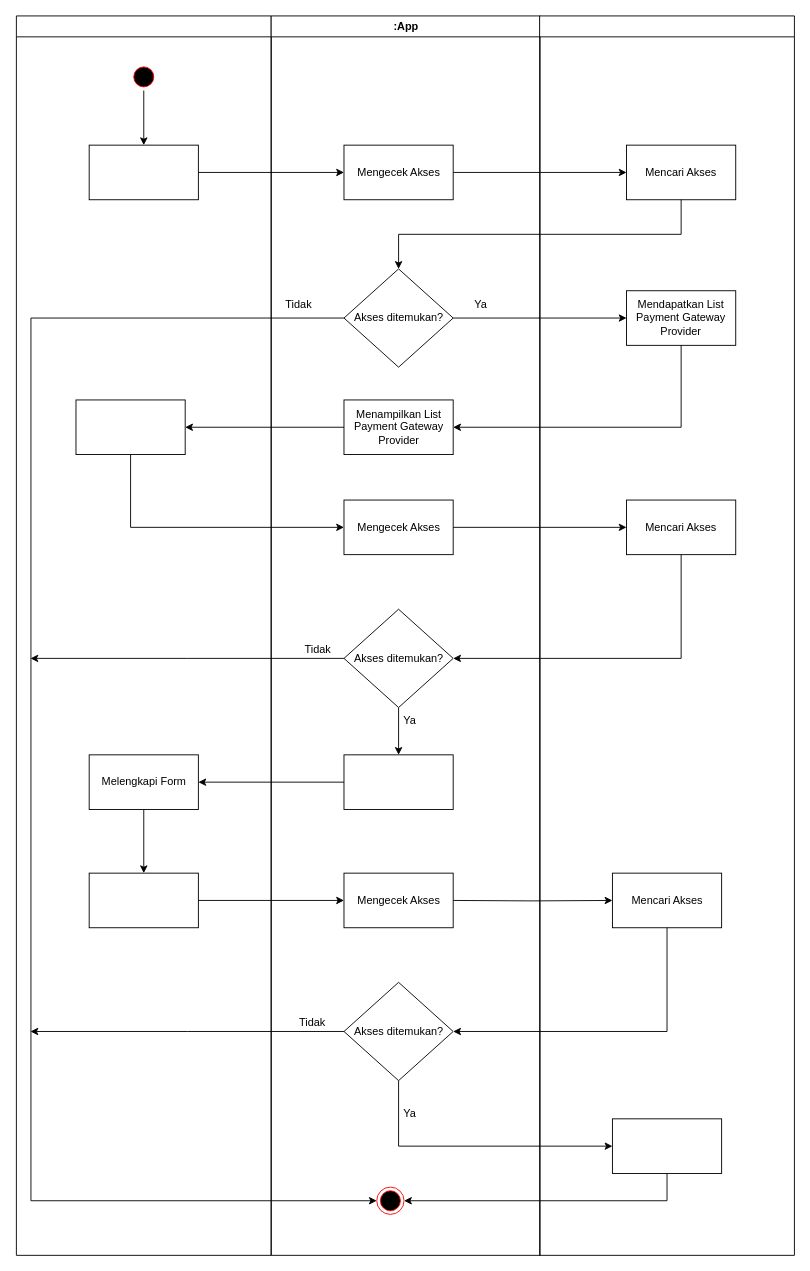
Image size: 810x1271. Some labels were removed from this diagram. Each missing label, with the box of its shape:
:Database: (539, 15, 794, 1255)
Klik Create / Edit Provider: (75, 399, 185, 455)
Klik Simpan: (88, 872, 198, 928)
Membuka Menu Payment Gateways --> Providers: (88, 144, 198, 200)
Menampilkan Form: (343, 754, 453, 809)
Menyimpan Data: (612, 1118, 722, 1173)
User Admin / User Merchant: (15, 15, 271, 1255)
